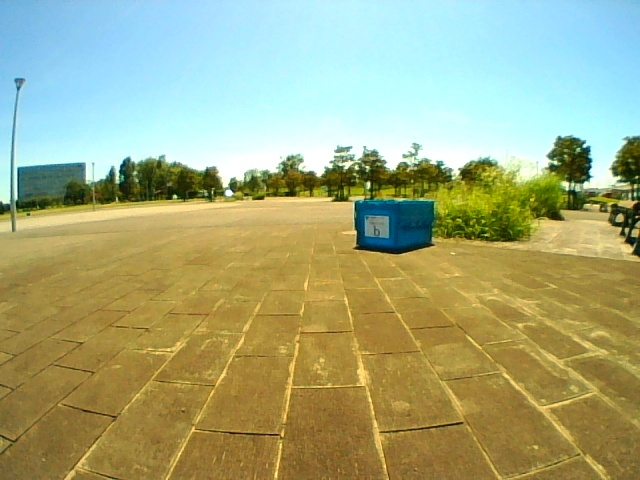blue_box: (357, 201, 432, 247)
tag_b: (365, 216, 389, 238)
